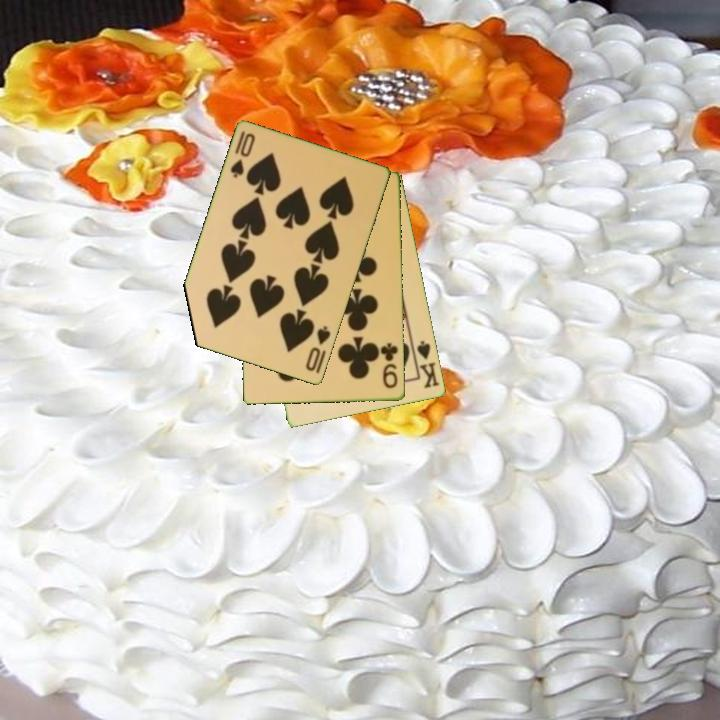10s: (302, 323, 334, 375), (227, 128, 258, 181)
9c: (378, 340, 401, 391)
Ks: (409, 337, 443, 391)
